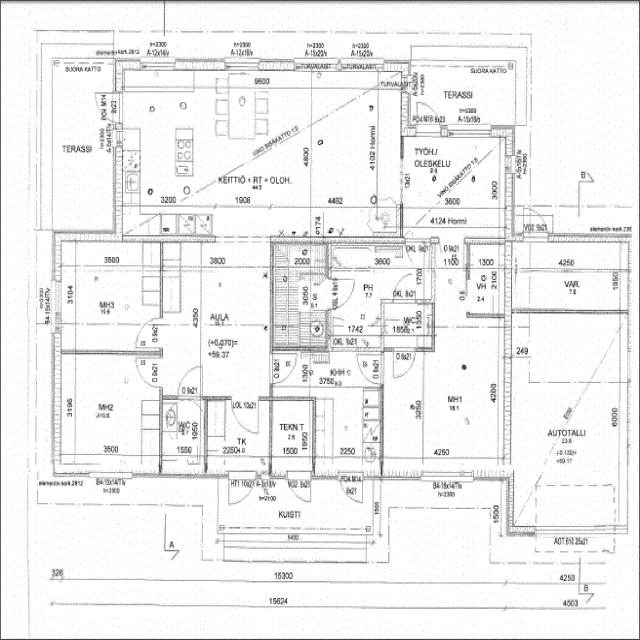door: (230, 394, 260, 437), (355, 349, 383, 385), (228, 470, 256, 506), (269, 351, 299, 384), (134, 354, 163, 388), (134, 318, 161, 353), (329, 275, 356, 310), (178, 364, 204, 398), (414, 101, 440, 134), (392, 346, 417, 379), (339, 474, 364, 506), (289, 475, 312, 506), (99, 78, 114, 94)
window: (421, 463, 474, 484), (44, 136, 56, 225), (444, 126, 496, 140), (615, 313, 625, 381)
zone: (125, 69, 314, 230), (526, 0, 636, 241), (506, 348, 625, 534), (50, 349, 162, 476), (423, 323, 503, 475), (54, 236, 160, 350), (401, 132, 505, 236), (199, 261, 270, 399), (309, 78, 380, 214), (49, 105, 115, 237), (511, 242, 624, 315), (413, 61, 520, 134), (309, 384, 385, 478), (329, 240, 432, 301), (273, 259, 332, 350), (204, 404, 271, 479), (382, 353, 423, 473), (160, 395, 207, 476), (270, 398, 314, 474), (329, 293, 383, 350), (381, 300, 435, 351), (466, 264, 509, 318), (165, 505, 204, 563), (466, 240, 506, 269), (509, 310, 532, 360), (98, 91, 120, 121)
